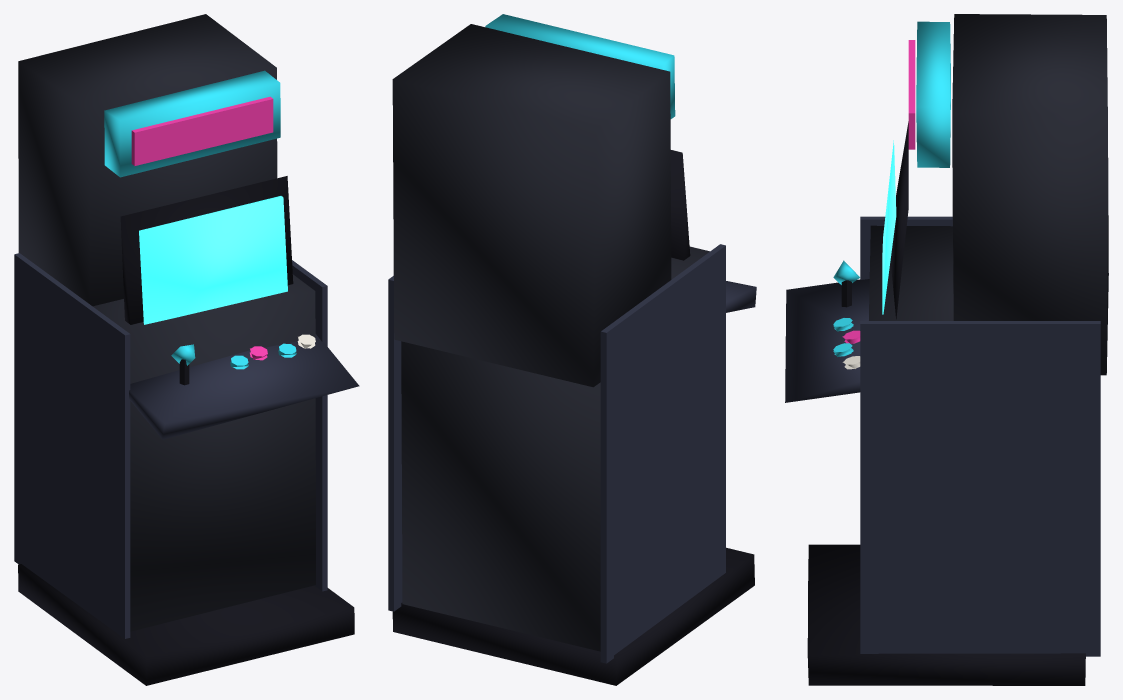
Rendered from lod_arcade_machine.glb.
3 views of the same model, side by side, from view 1: azimuth 30°, elevation 25°; view 2: azimuth 150°, elevation 25°; view 3: azimuth 270°, elevation 25° (orthographic). The views are drawn at different scales.
Visible parts, largest first — view 1: arcade_machine; view 2: arcade_machine; view 3: arcade_machine.
Part boxes in pixels (x1,y1,x2,y2): arcade_machine: [14, 14, 359, 685]; arcade_machine: [388, 14, 756, 685]; arcade_machine: [785, 14, 1108, 685].
Size of the model in its own units: 0.7846 by 1.88 by 0.9696.
